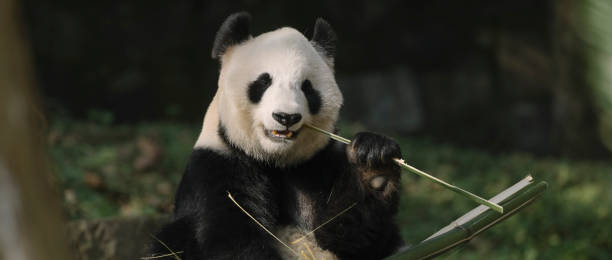panda: (180, 10, 370, 177)
